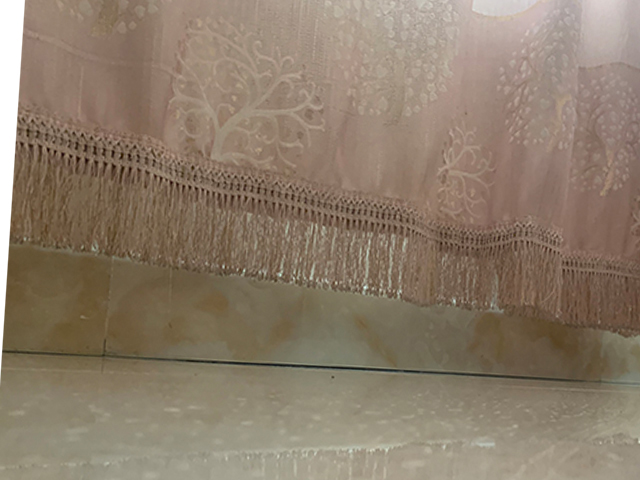curtain: (9, 1, 640, 338)
